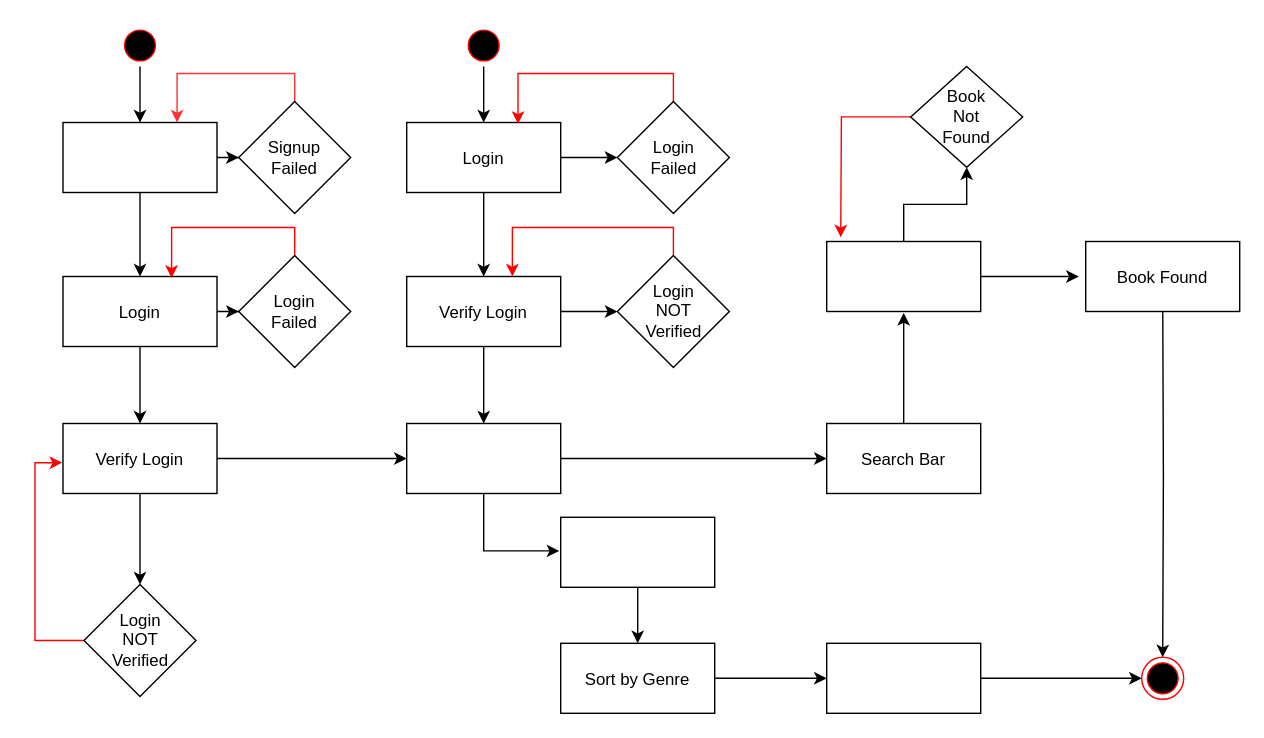
This 1264x738 diagram has some shape labels left out. The shapes that lost their labels are listed below. From the top down, each one's centre as x and y in pixels, then its label:
At [139,156]: "Signup".
At [903,276]: "Search Book".
At [483,457]: "Menu".
At [637,551]: "Books".
At [903,677]: "Pick Genre".
